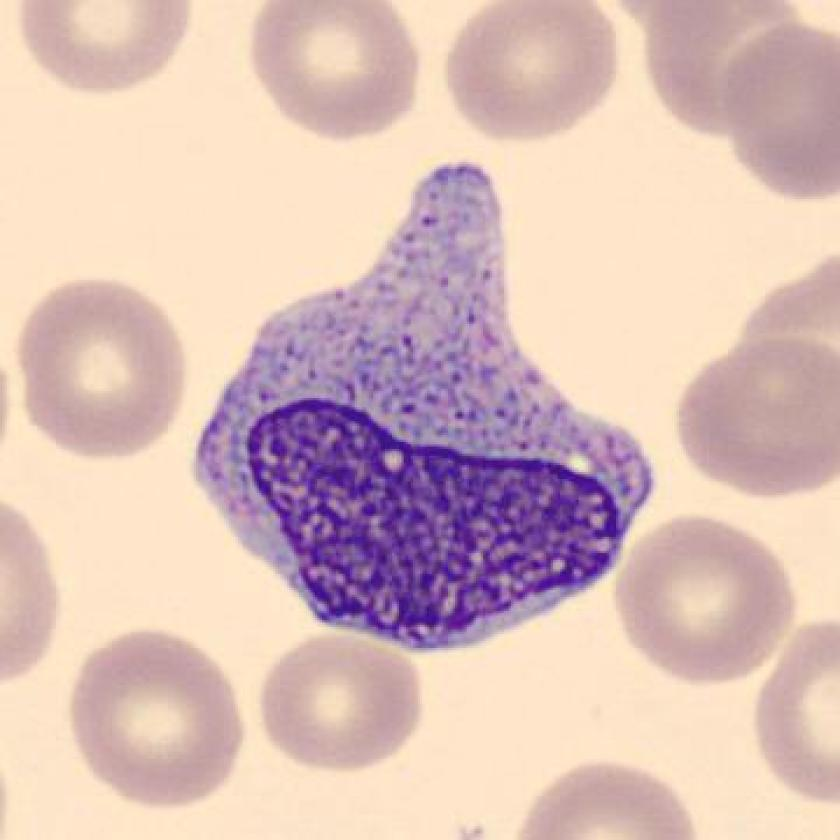monocyte: (178, 147, 671, 667)
